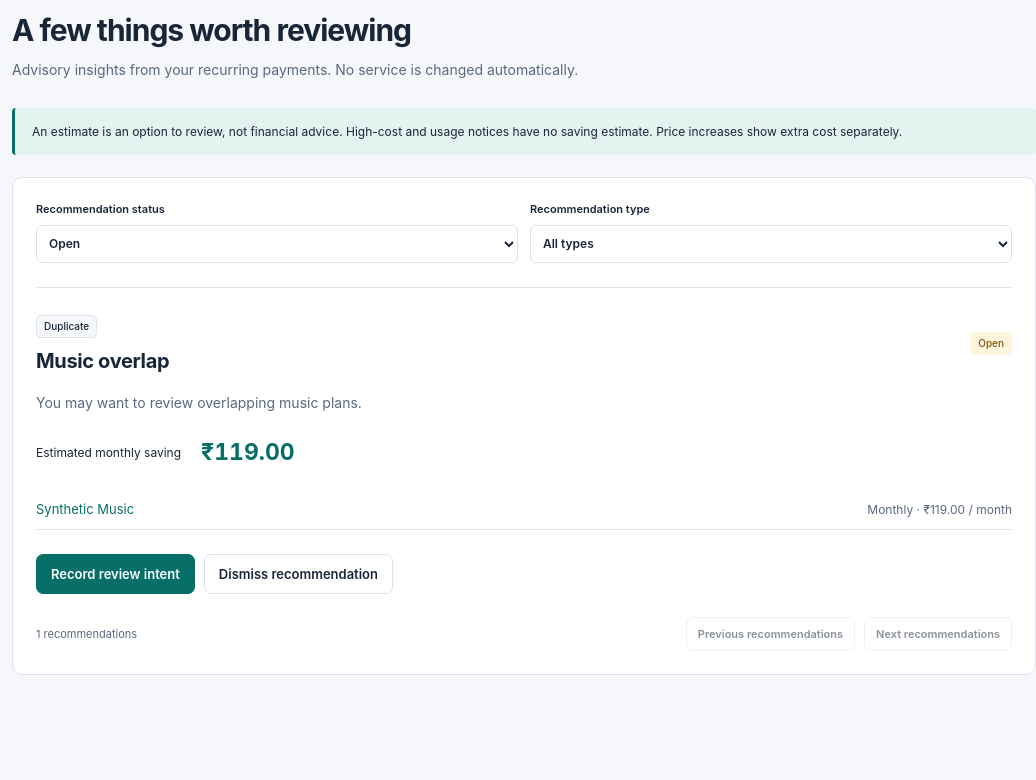
Test case: dismiss and filters use validated network arguments
Click the button "Dismiss recommendation" at (298, 574), box [204, 554, 393, 594]
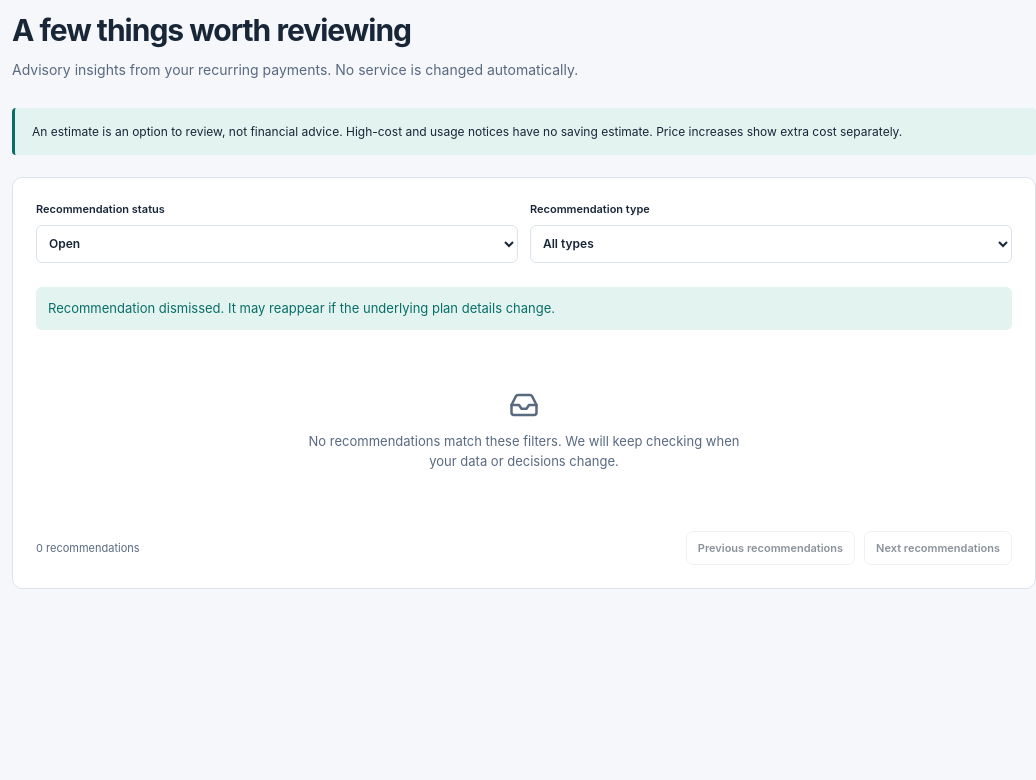
Result: the text "Recommendation dismissed" is shown at [48, 300, 555, 316]
Select "Dismissed" in the dropdown labelled "Recommendation status" at (277, 244), box [36, 225, 518, 263]
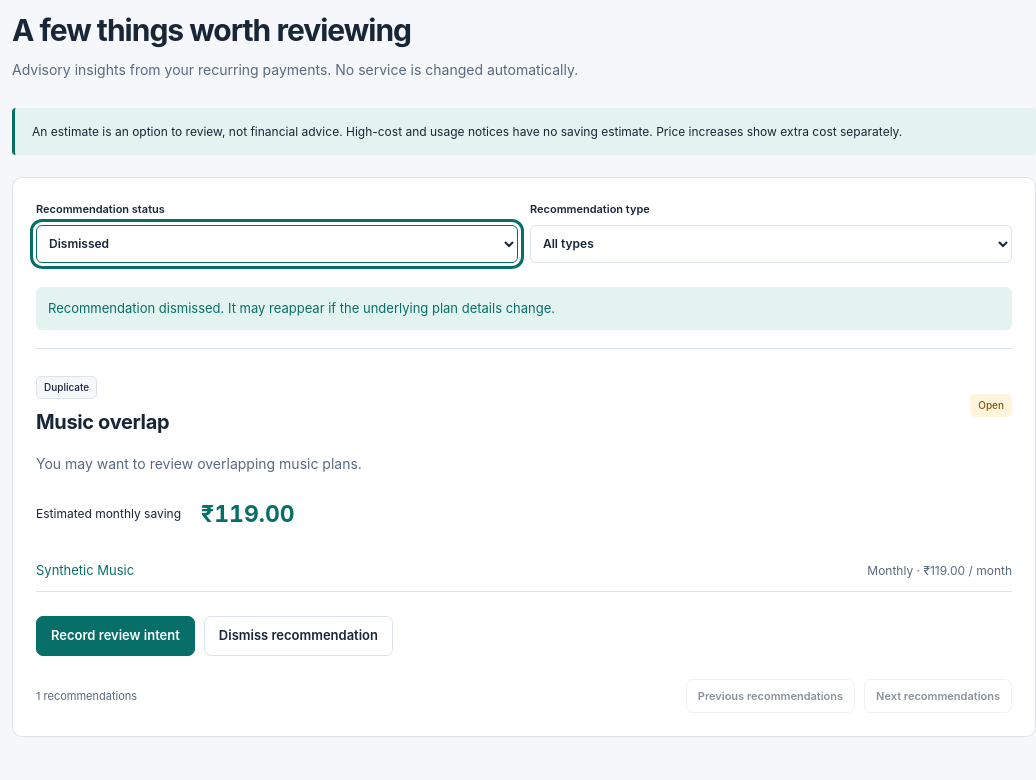
Result: the element "Music overlap" is shown at [36, 348, 1012, 661]
